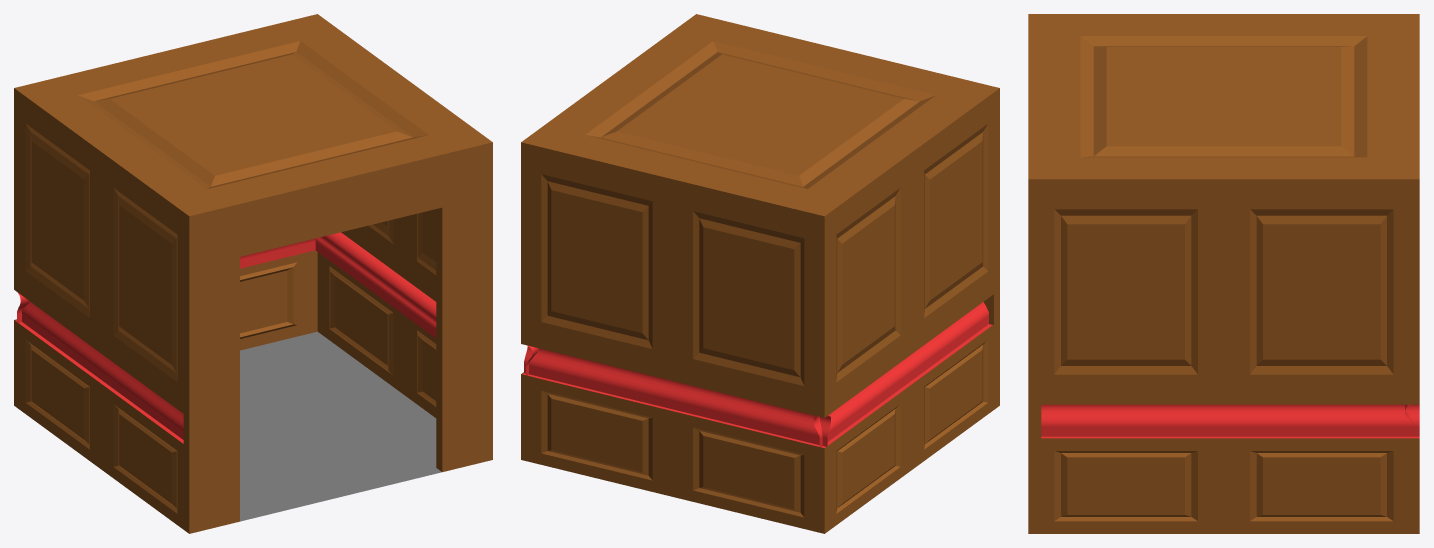
The model's file is Elevator_1.fbx.
The picture shows the model from 3 angles, left to right: view 1: azimuth 30°, elevation 25°; view 2: azimuth 150°, elevation 25°; view 3: azimuth 270°, elevation 25°; orthographic projection. The views are drawn at different scales.
Parts seen in each view (by area): view 1: Elevator; view 2: Elevator; view 3: Elevator.
Part boxes in pixels (x1,y1,x2,y2): Elevator: (14, 14, 492, 533); Elevator: (521, 14, 999, 533); Elevator: (1028, 14, 1419, 533).
Bounding box in the file's own units: 3 × 3 × 3.
